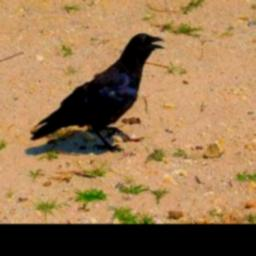Crow: (31, 32, 166, 151)
